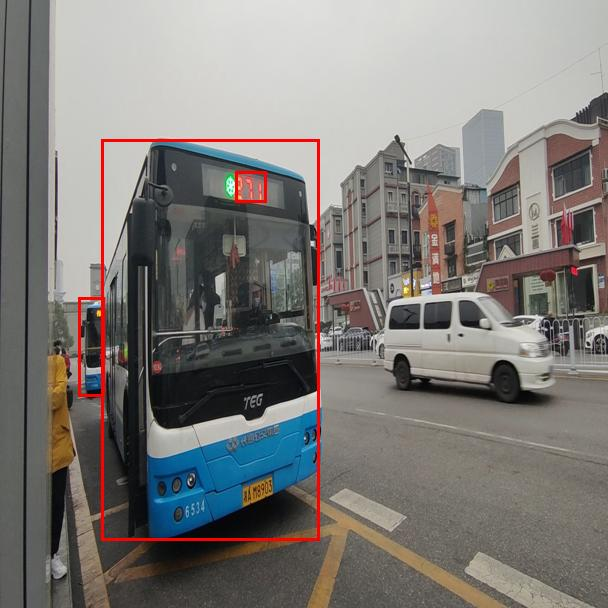bus: (101, 139, 319, 540), (78, 297, 104, 396)
screen: (235, 171, 266, 202)
